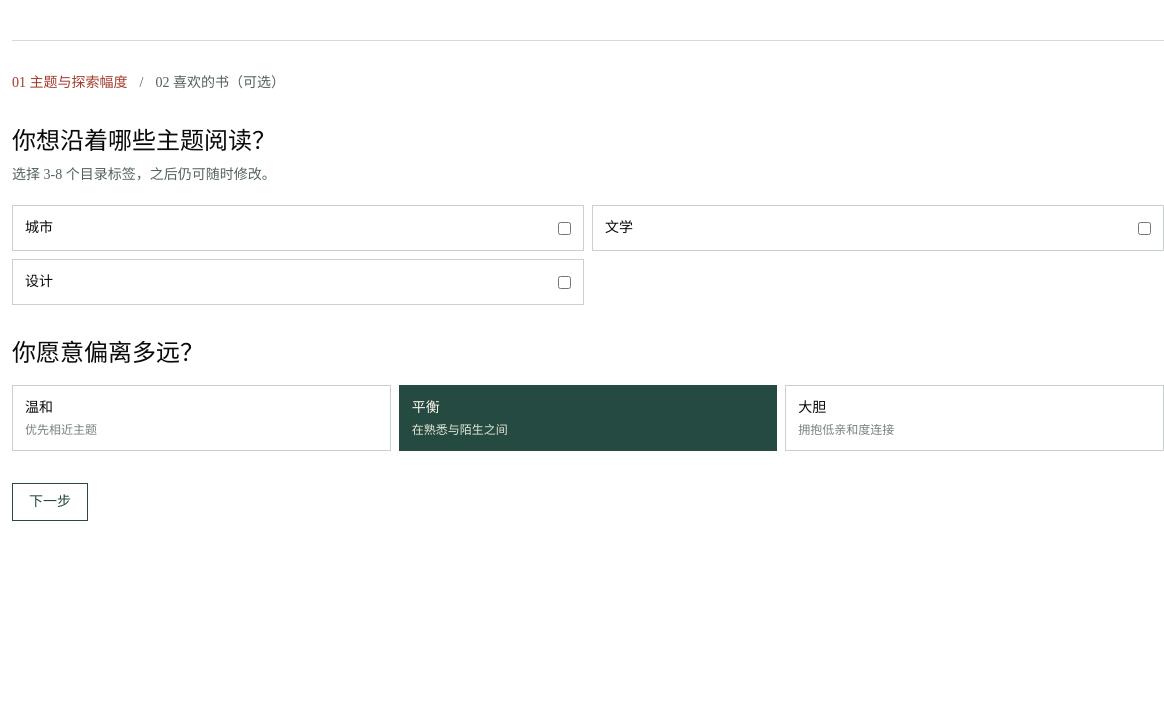
Scenario: OnboardingForm › requires explicit consent before allowing a completed preference profile to be saved
This screenshot has width=1164, height=720.
Click the checkbox labelled "设计" at (564, 282), box [558,276,571,288]
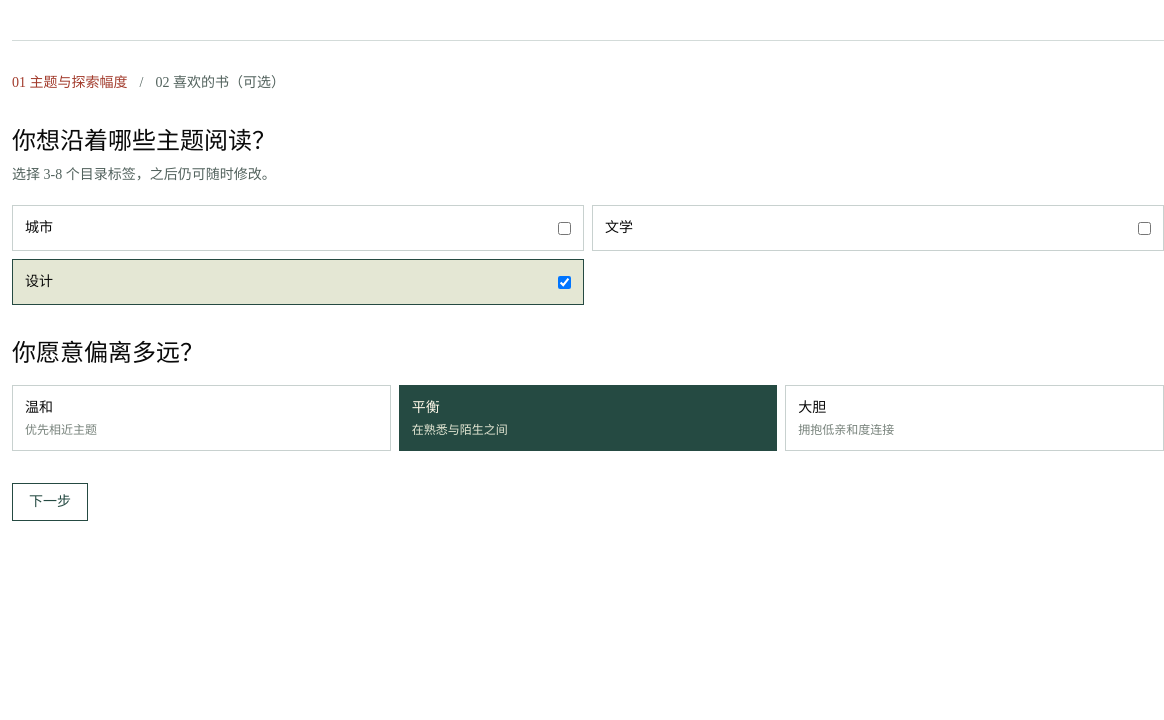
Click the checkbox labelled "文学" at (1144, 228), box [1138,222,1151,234]
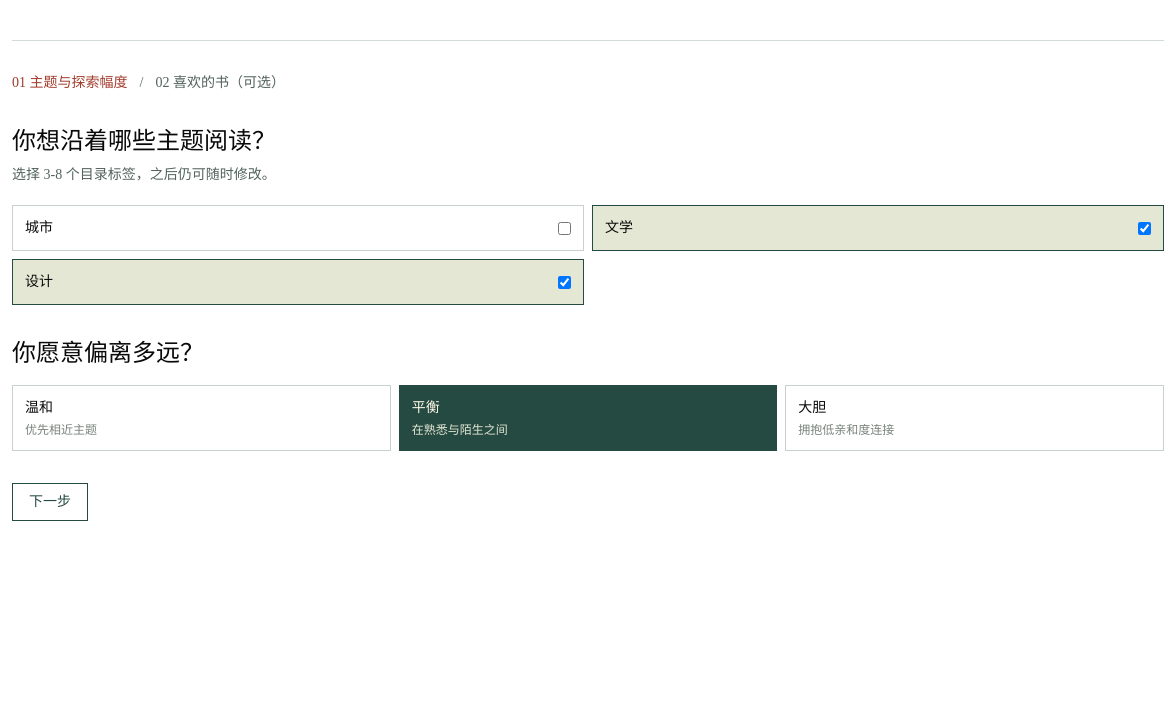
Click the checkbox labelled "城市" at (564, 228), box [558,222,571,234]
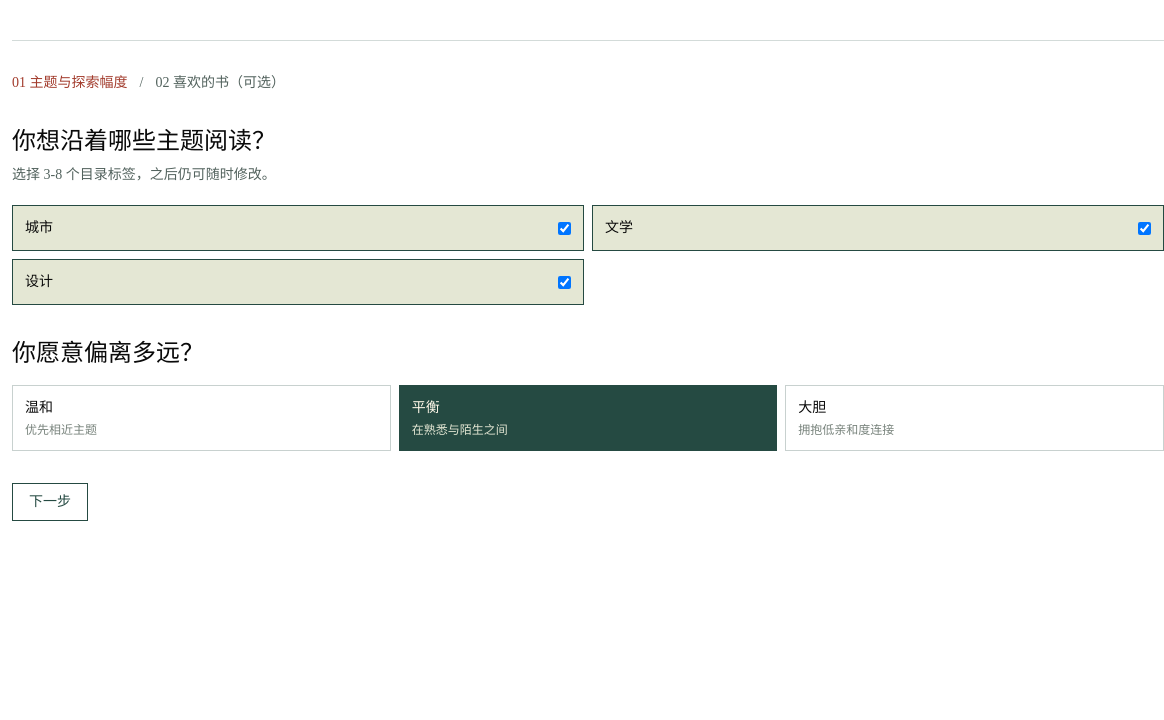
Click the button "下一步" at (50, 502), box [12,483,88,521]
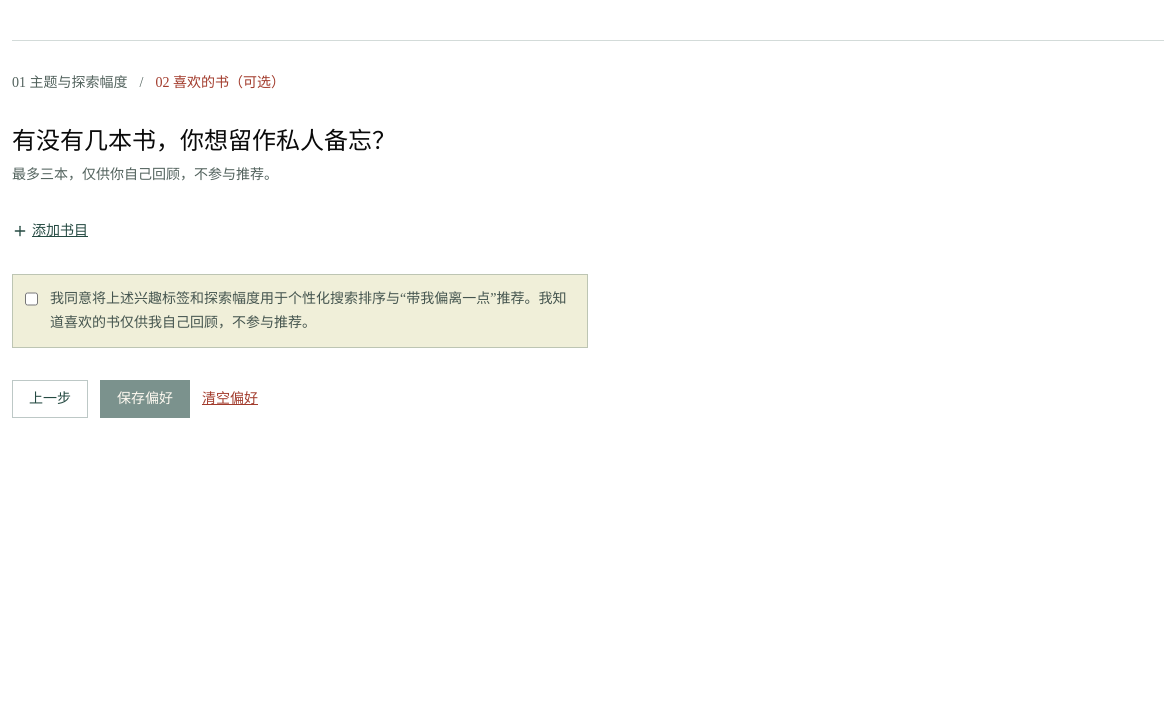
Expected: the button "保存偏好" is disabled, [100,380,190,418]
Click the checkbox labelled "我同意将上述兴趣标签和探索幅度用于个性化搜索排序与“带我偏离一点”推荐。我知道喜欢的书仅供我自己回顾，不参与推荐。" at (32, 299), box [25,291,38,307]
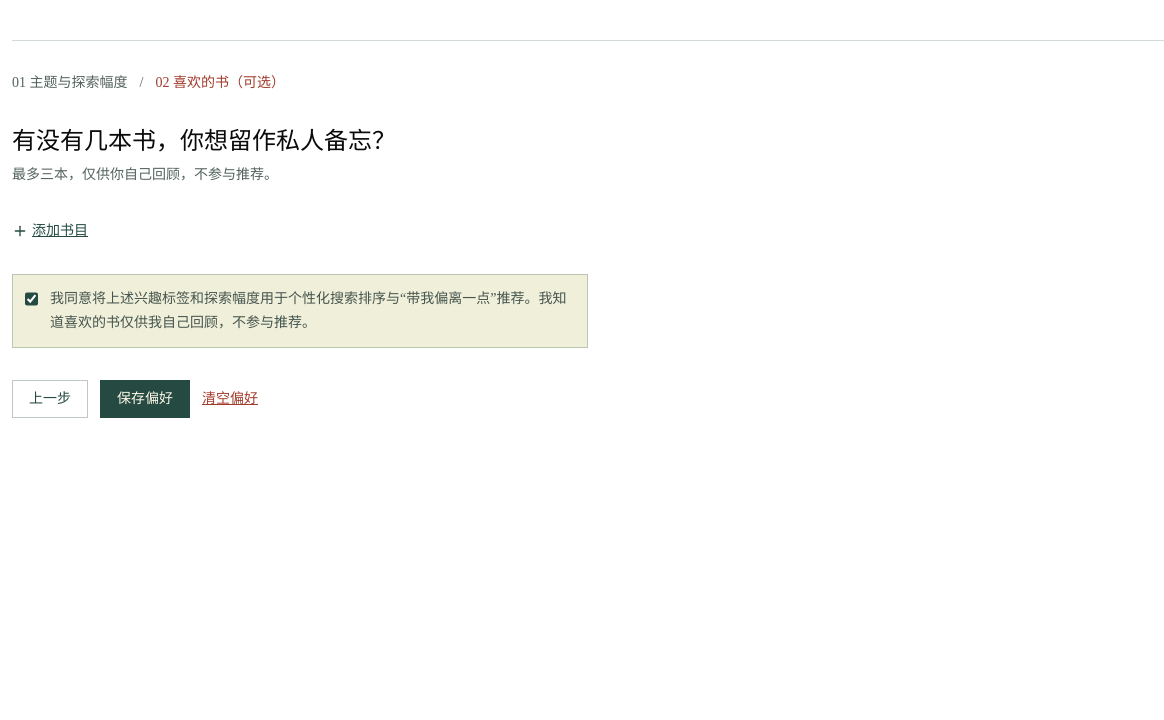
Expected: the button "保存偏好" is enabled, [100,380,190,418]
